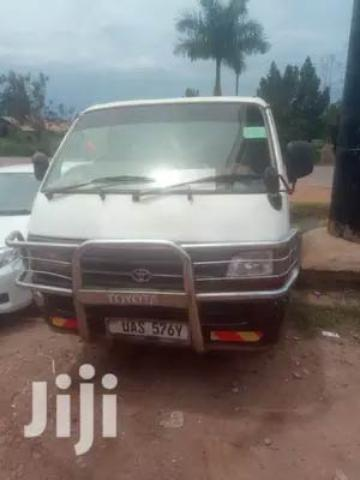van: (2, 93, 313, 352)
